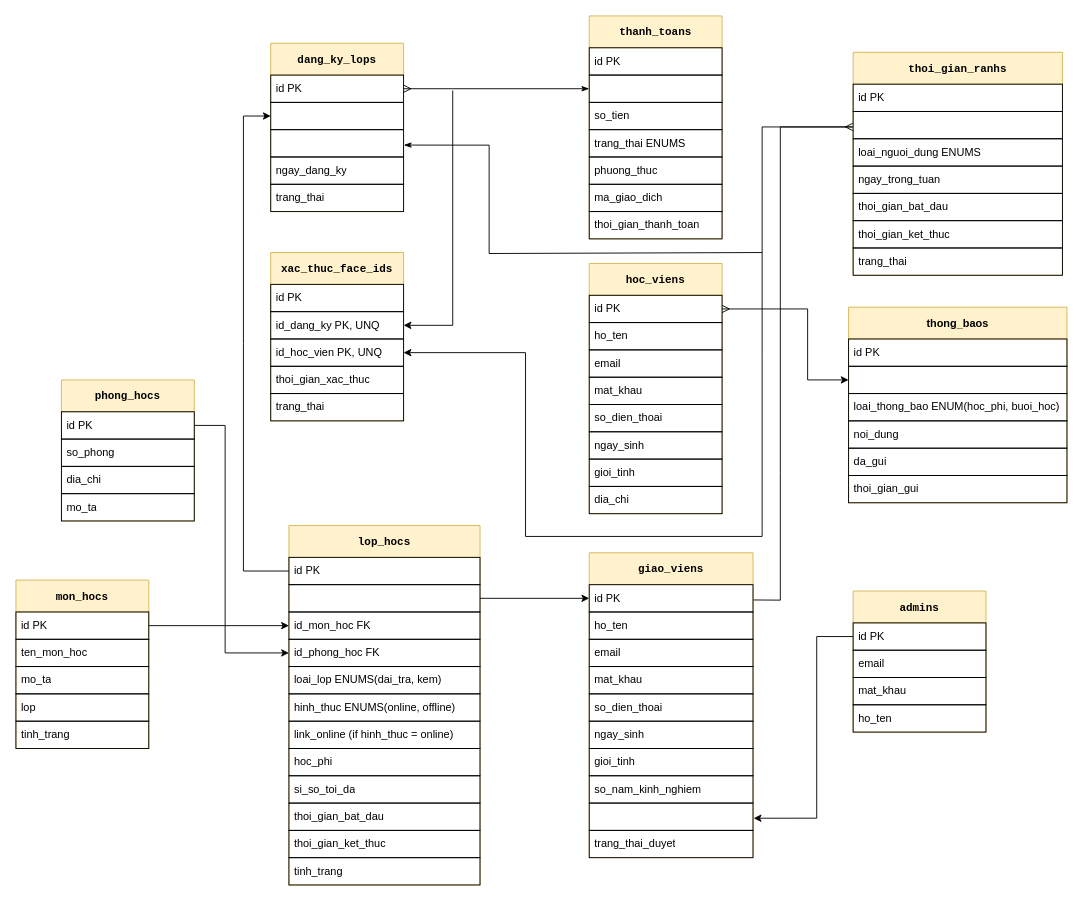
Some shapes in this 1083 by 901 pixel diagram are drawn without their labels. The centre of each missing label's shape, as x and y in pixels:
giao_vien_da_duyet FK -> admin.id (NULLABLE): point (670, 816)
id user (giao_vien, hoc_vien) PK, UNQ: point (957, 125)
id_dang_ky FK: point (655, 88)
id_giao_vien FK, UNQ: point (384, 598)
id_hoc_vien FK: point (957, 379)
id_hoc_vien, UNQ: point (337, 143)
id_lop_hoc FK, UNQ: point (337, 115)
